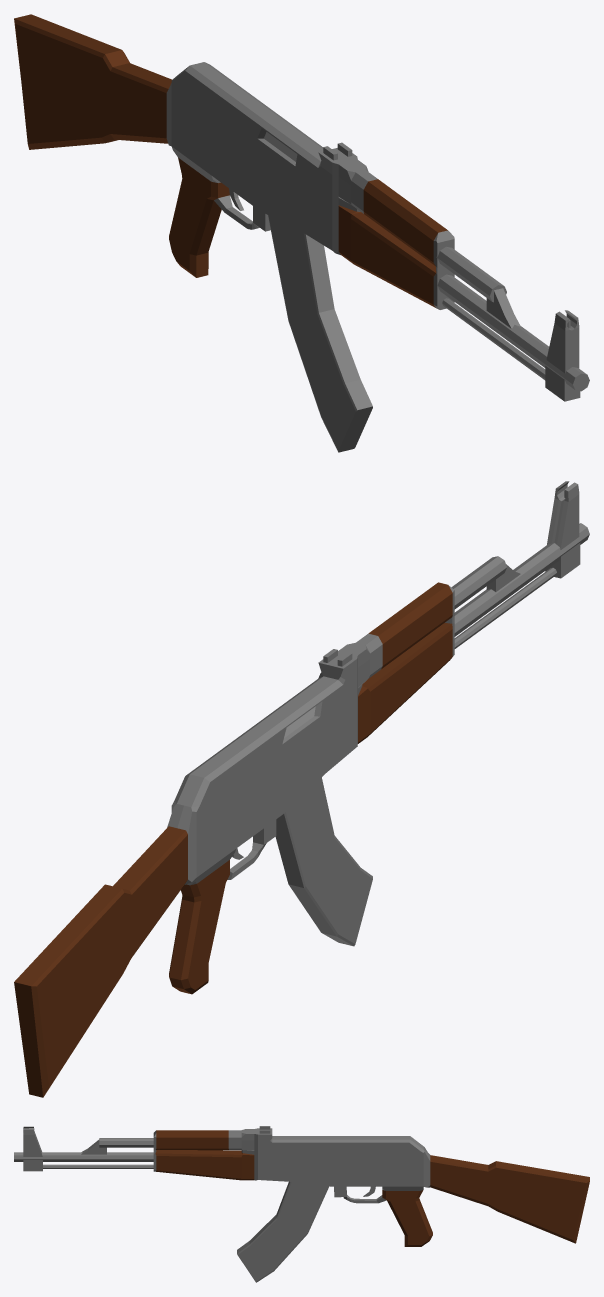
The picture shows the model from 3 angles, top to bottom: view 1: azimuth 30°, elevation 25°; view 2: azimuth 150°, elevation 25°; view 3: azimuth 270°, elevation 25°; orthographic projection. The views are drawn at different scales.
Visible parts, largest first — view 1: Body, Cube; view 2: Body, Cube; view 3: Body, Cube.
Boxes of the visible parts, x1,y1,x2,y2 form: Body: (14,14,589,401); Cube: (268,215,372,452); Body: (14,481,589,1097); Cube: (275,777,372,946); Body: (14,1126,589,1246); Cube: (237,1181,329,1282).
Size of the model in its own units: 23.51 by 267 by 910.
